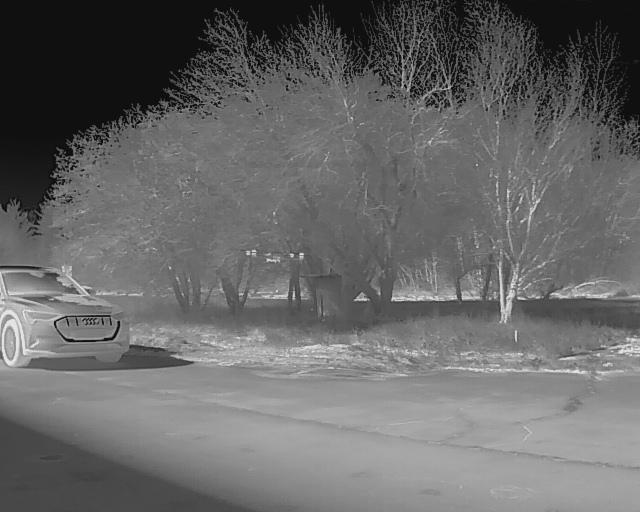drone: (235, 235, 310, 279)
